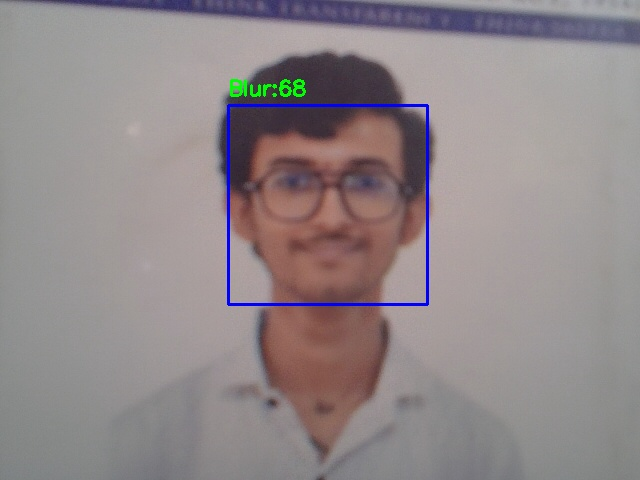fake: (228, 105, 427, 304)
